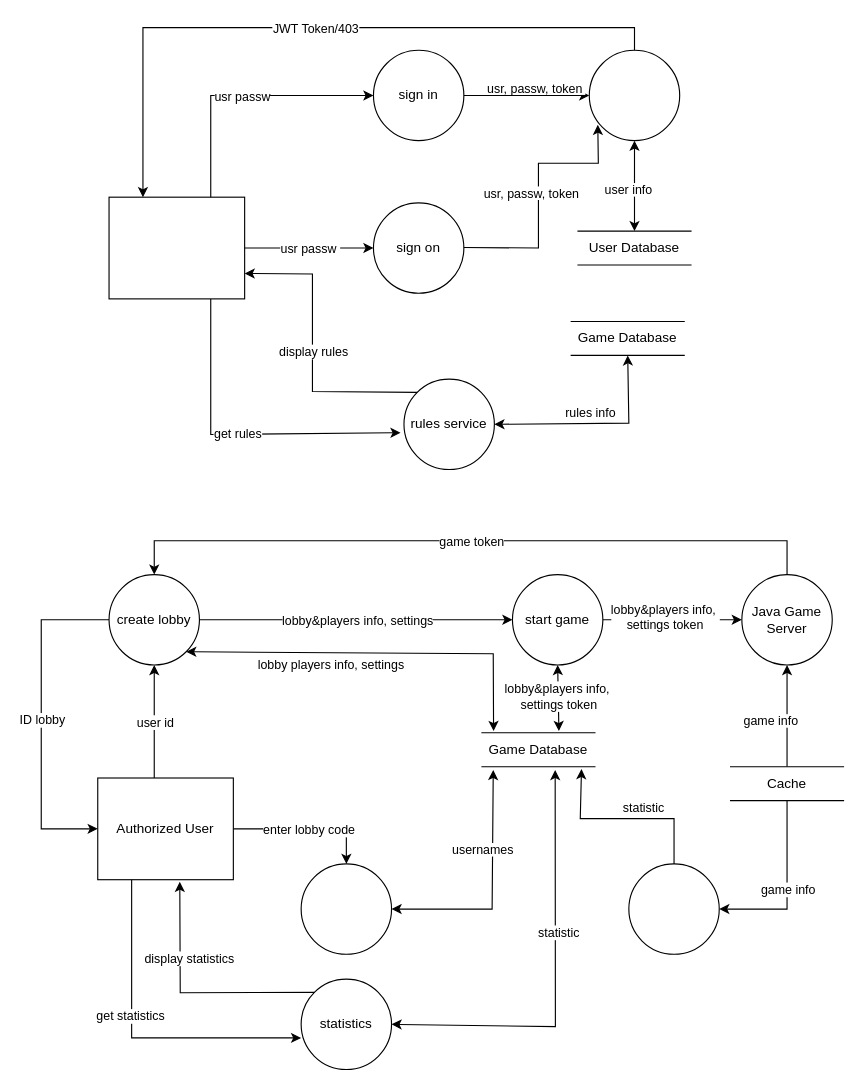
Image size: 863x1089. Some labels were removed from this diagram. The shapes that lost their labels are listed below. From the top down, each one's box as (x1, y1, x2, y2) in pixels, then its label:
(588, 49, 680, 141): validate user login & account
(108, 196, 245, 299): External User
(300, 863, 392, 954): join lobby
(628, 863, 719, 954): Statistic Creator
